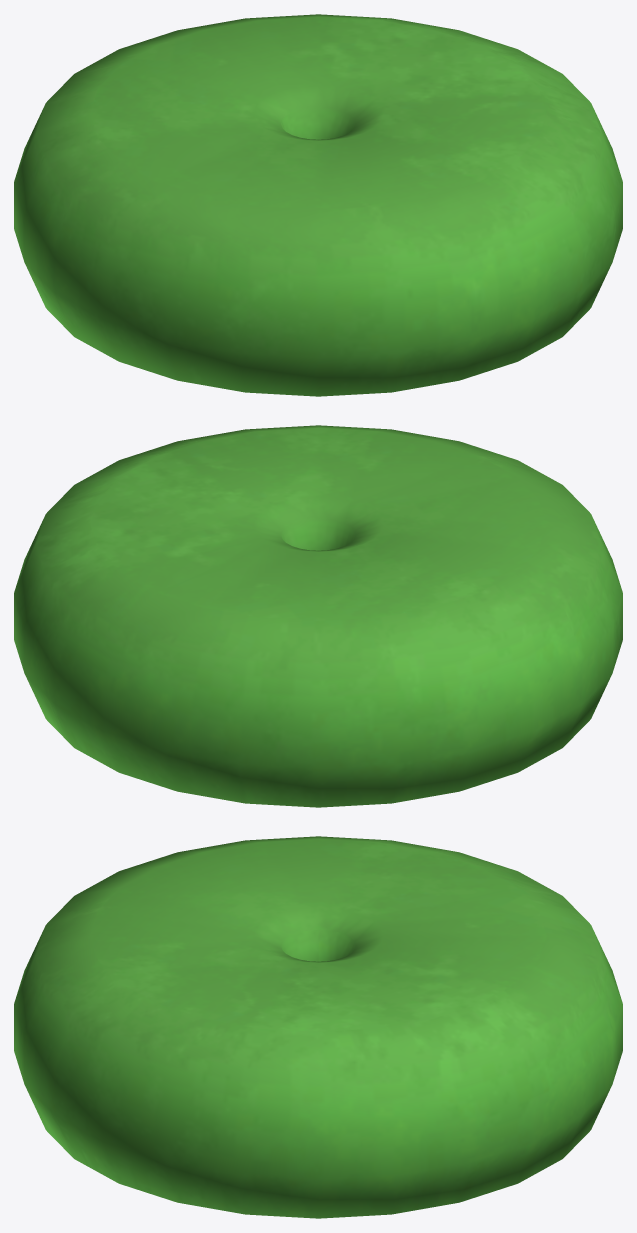
3 renders of one model, top to bottom at view 1: azimuth 30°, elevation 25°; view 2: azimuth 150°, elevation 25°; view 3: azimuth 270°, elevation 25°, orthographic.
Parts seen in each view (by area): view 1: SM_Pyramid_6; view 2: SM_Pyramid_6; view 3: SM_Pyramid_6.
Boxes of the visible parts, x1,y1,x2,y2 form: SM_Pyramid_6: [14, 14, 622, 396]; SM_Pyramid_6: [14, 425, 622, 807]; SM_Pyramid_6: [14, 836, 622, 1218].
Size of the model in its own units: 9 by 3 by 9.
Materials: 1 (1 with a texture image).
